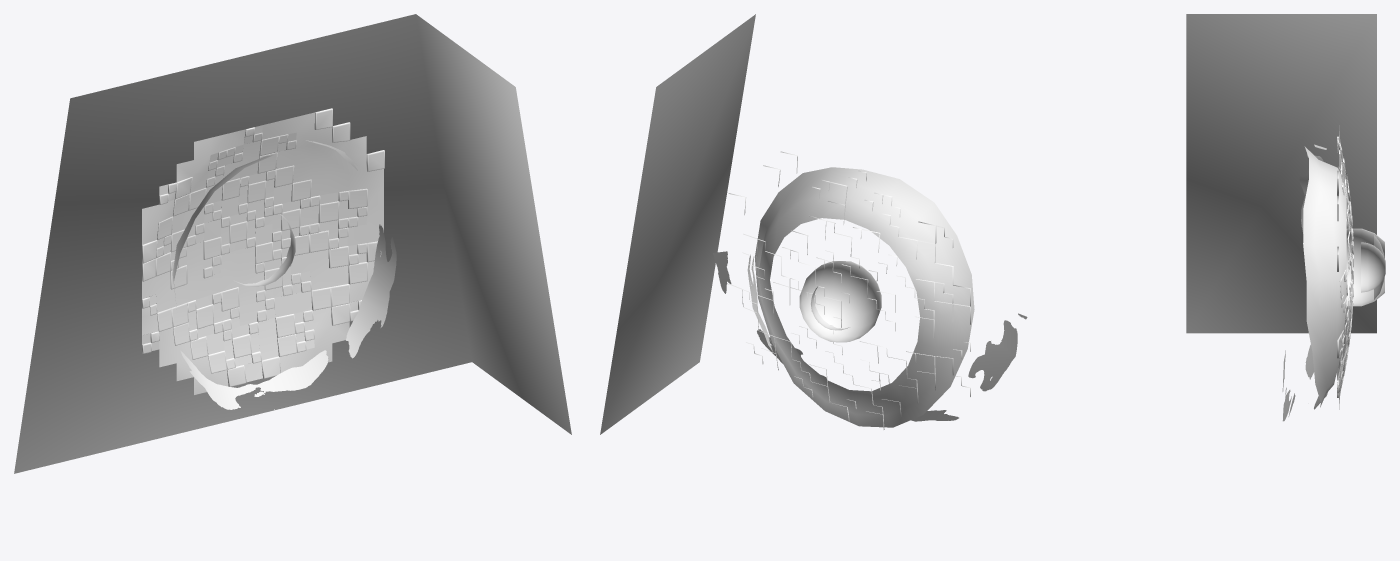
3 renders of one model, left to right at view 1: azimuth 30°, elevation 25°; view 2: azimuth 150°, elevation 25°; view 3: azimuth 270°, elevation 25°, orthographic. The views are drawn at different scales.
Parts seen in each view (by area): view 1: rsrc.world.skybox.consumed.parts.model_floor-MeshNodes["mesh (×4); view 2: rsrc.world.skybox.consumed.parts.model_floor-MeshNodes["mesh (×4), rsrc.character.npc.monster.swarm.parts.model_visionfog-MeshN; view 3: rsrc.world.skybox.consumed.parts.model_floor-MeshNodes["mesh (×5), rsrc.character.npc.monster.swarm.parts.model_visionfog-MeshN (×2).
Part boxes in pixels (x1,y1,x2,y2): rsrc.world.skybox.consumed.parts.model_floor-MeshNodes["mesh (×4): [14, 14, 571, 473]; rsrc.world.skybox.consumed.parts.model_floor-MeshNodes["mesh (×4): [600, 14, 1027, 434]; rsrc.character.npc.monster.swarm.parts.model_visionfog-MeshN: [799, 261, 881, 342]; rsrc.world.skybox.consumed.parts.model_floor-MeshNodes["mesh (×5): [1186, 14, 1376, 421]; rsrc.character.npc.monster.swarm.parts.model_visionfog-MeshN (×2): [1346, 228, 1385, 306].
Size of the model in its own units: 39.74 by 30.41 by 15.68.
5 materials, 1 textured.
